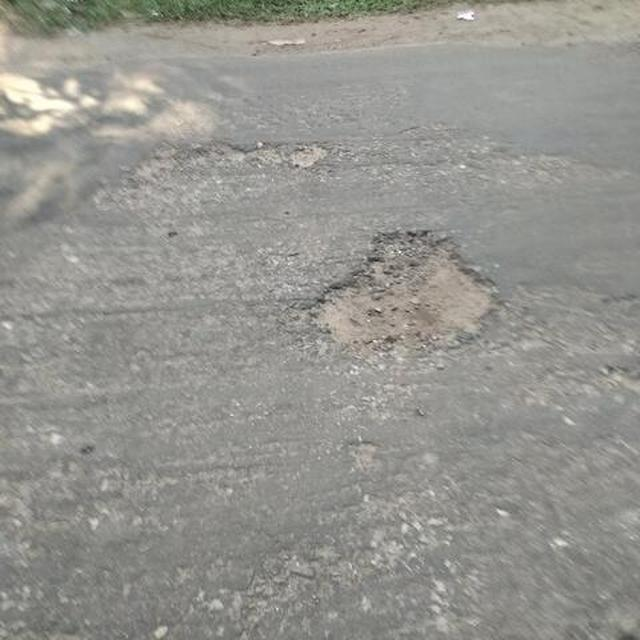pothole: (328, 231, 511, 361), (200, 125, 321, 182), (323, 435, 387, 488)
